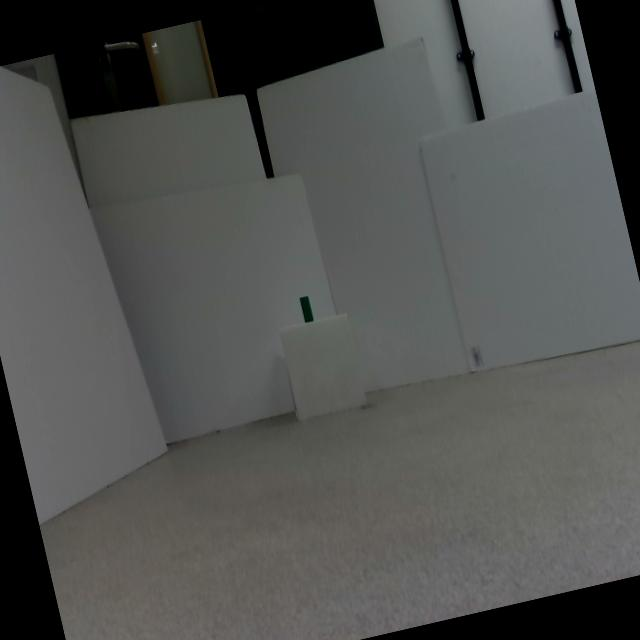green_cylinder: (299, 295, 314, 322)
